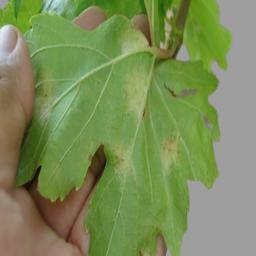Powdery-Mildew: (119, 68, 152, 120), (35, 83, 75, 123), (113, 145, 141, 181), (118, 34, 147, 57)
